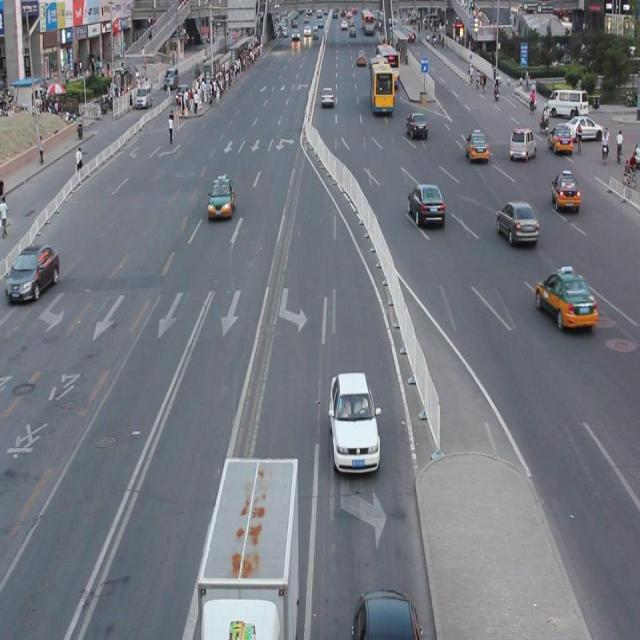bus: (197, 451, 300, 640)
car: (328, 369, 380, 472), (534, 266, 596, 330), (352, 584, 421, 640), (1, 241, 59, 302), (496, 199, 538, 247), (408, 181, 443, 229), (550, 170, 579, 212), (207, 177, 234, 220)
